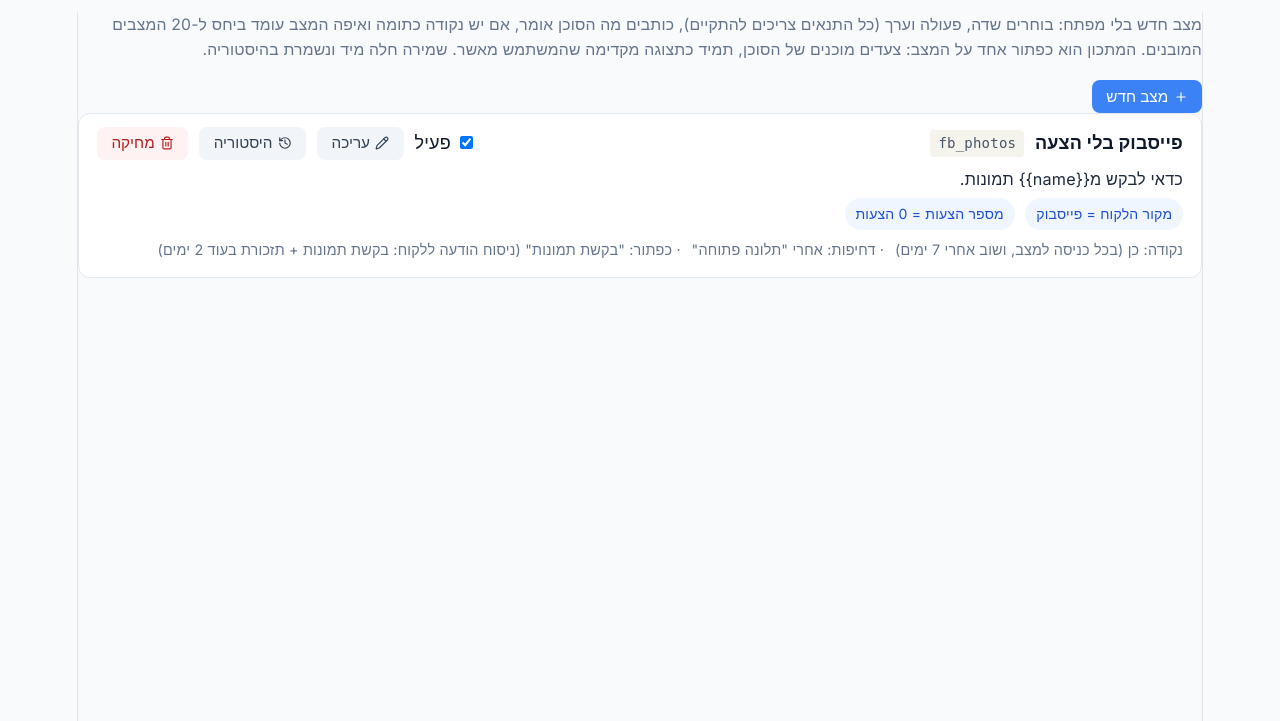
Scenario: CustomStates (E12 state builder) › shows the server's Hebrew reasons when a state can't be saved
This screenshot has width=1280, height=721.
Click the button "מצב חדש" at (1147, 97), box [1092,80,1202,113]
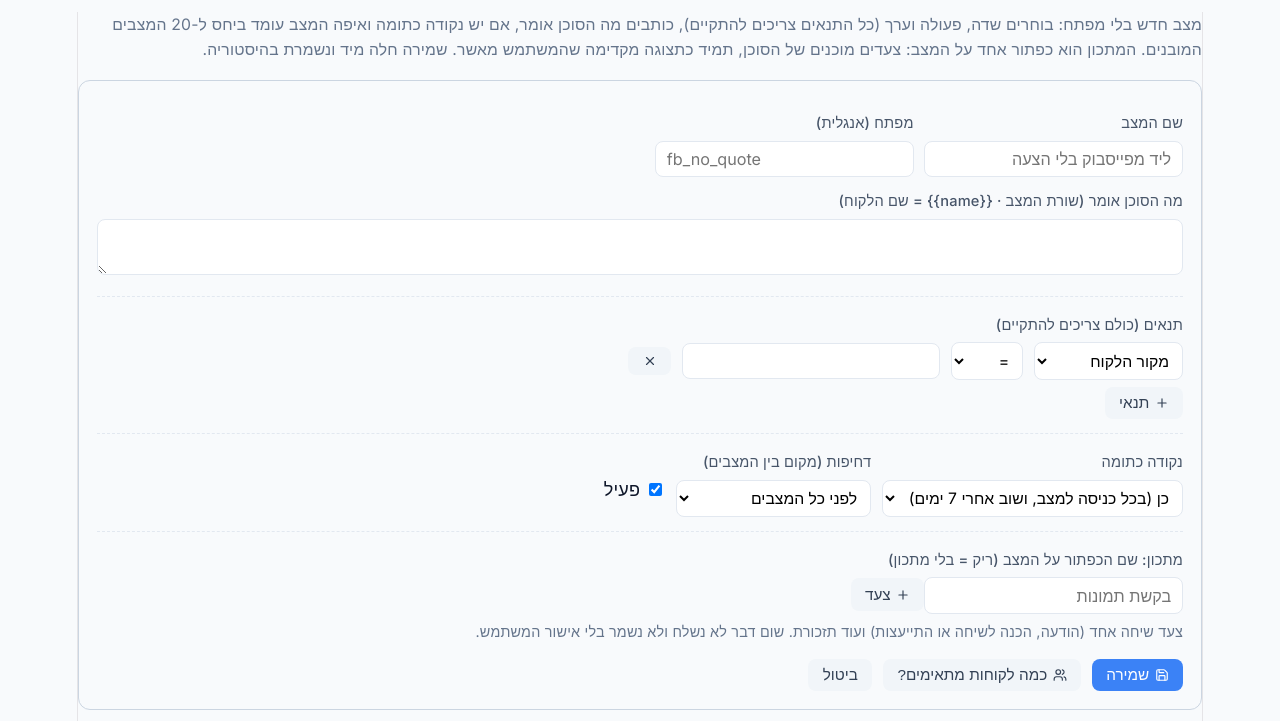
Select "מספר הצעות" in the dropdown named "שדה 1" at (1108, 361), box [1034,342,1183,380]
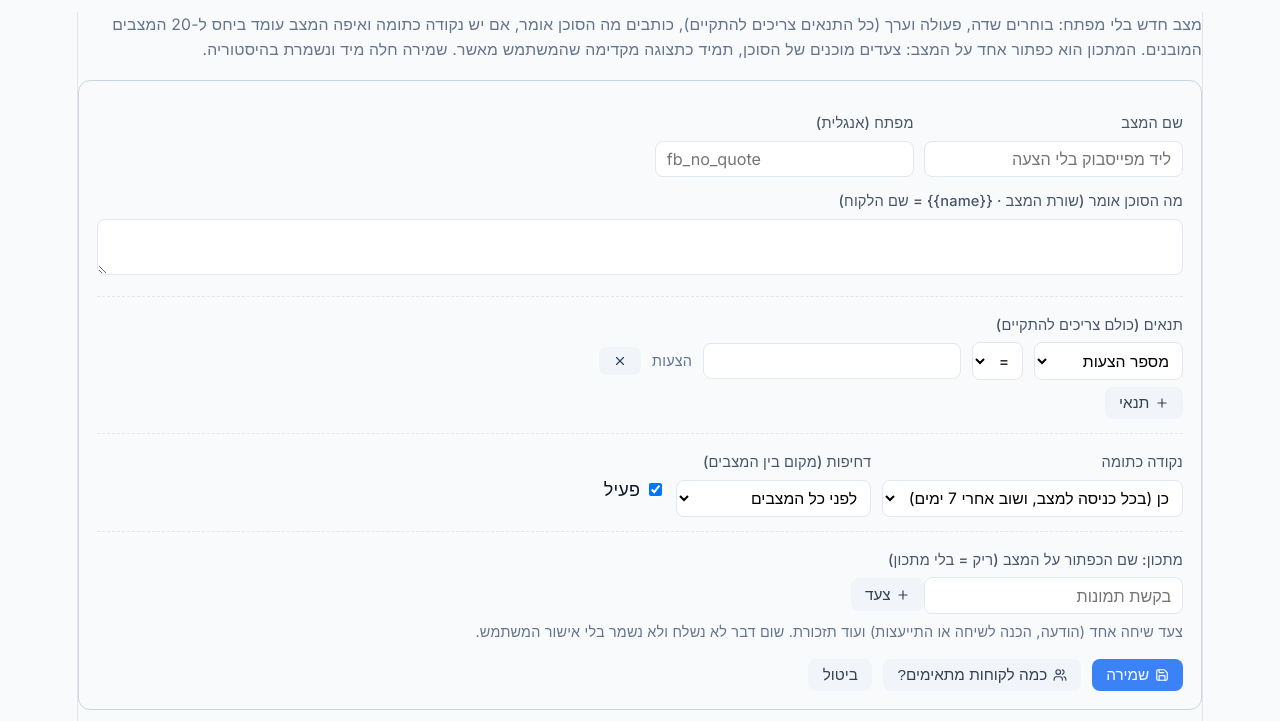
Type "אפס" into the field named "ערך 1" at (832, 361), box [703,343,961,379]
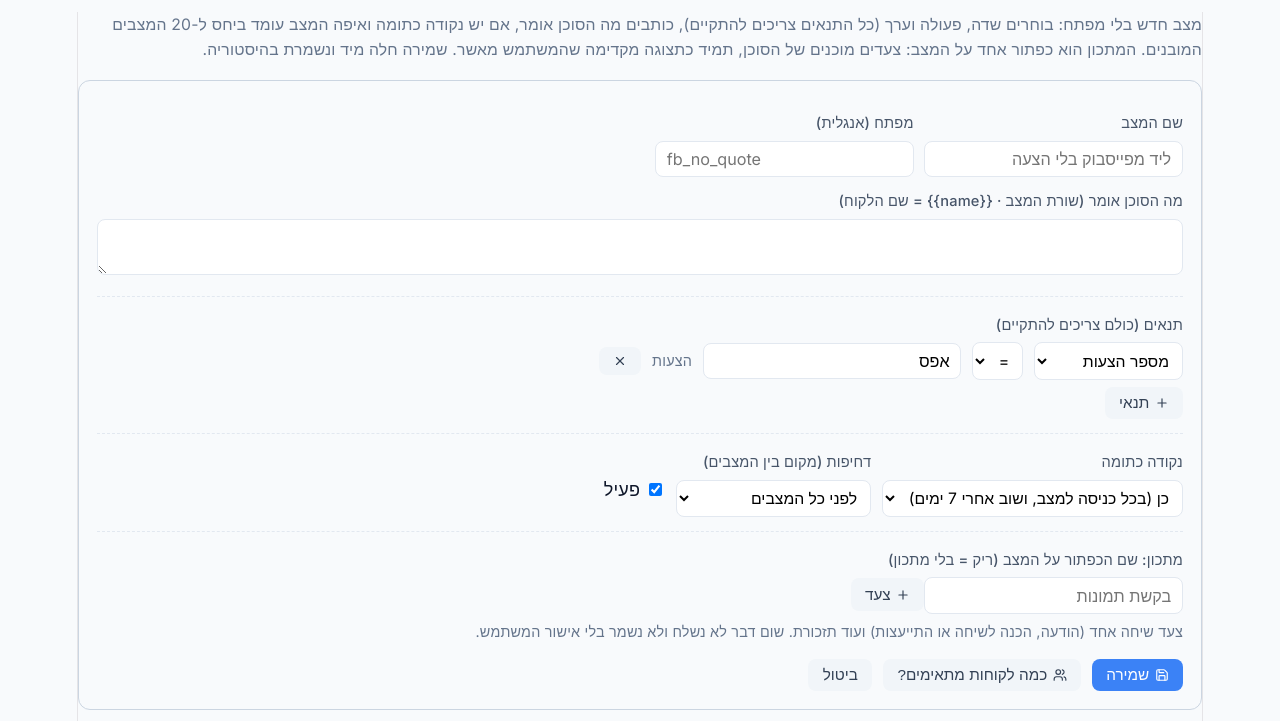
Click the button "שמירה" at (1137, 675), box [1092,659,1183,691]
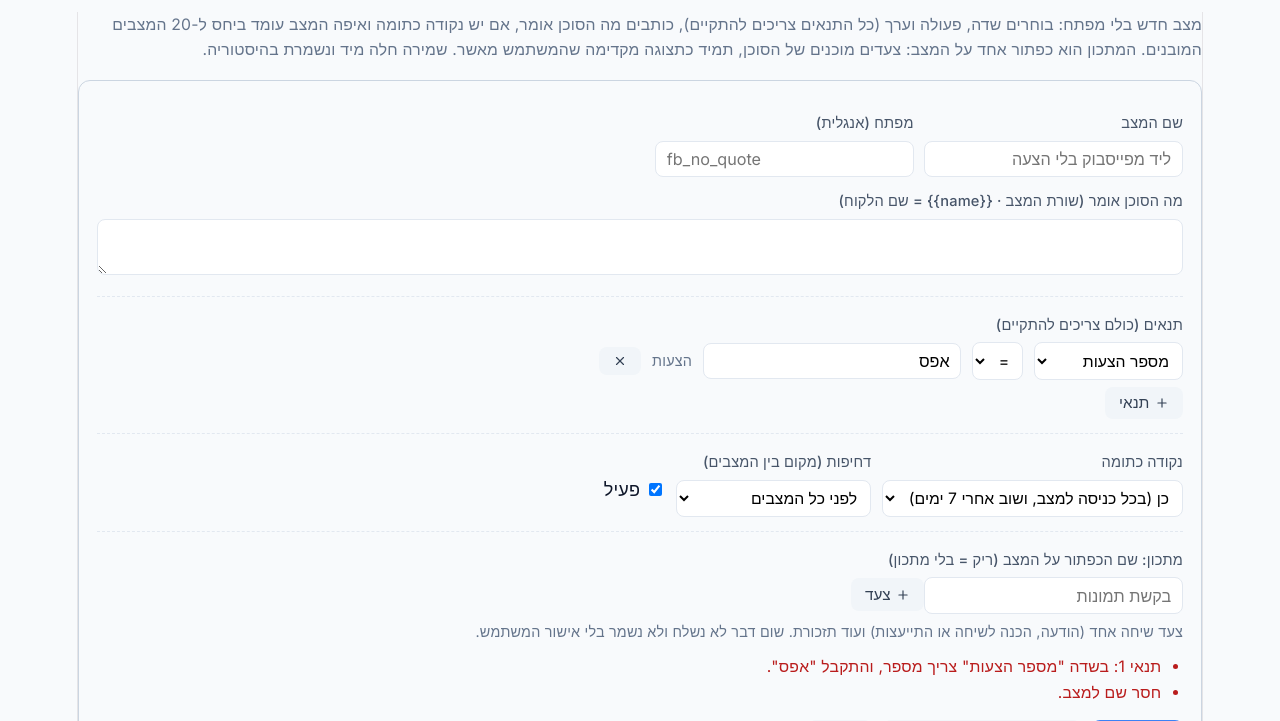
expect the list item "תנאי 1: בשדה \"מספר הצעות\" צריך מספר, והתקבל \"אפס\"." is shown: met, box [767,657,1161,676]
expect the list item "חסר שם למצב." is shown: met, box [1058,683,1161,702]
